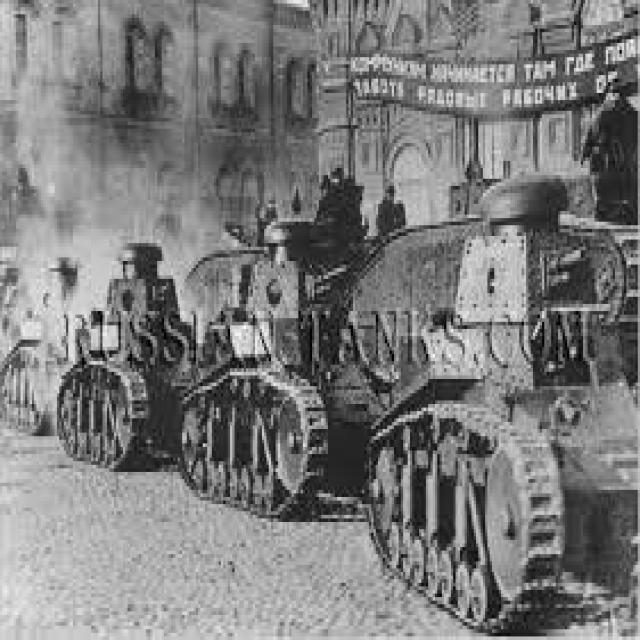Tanks: (342, 260, 633, 620), (178, 315, 319, 511), (54, 240, 170, 468)
